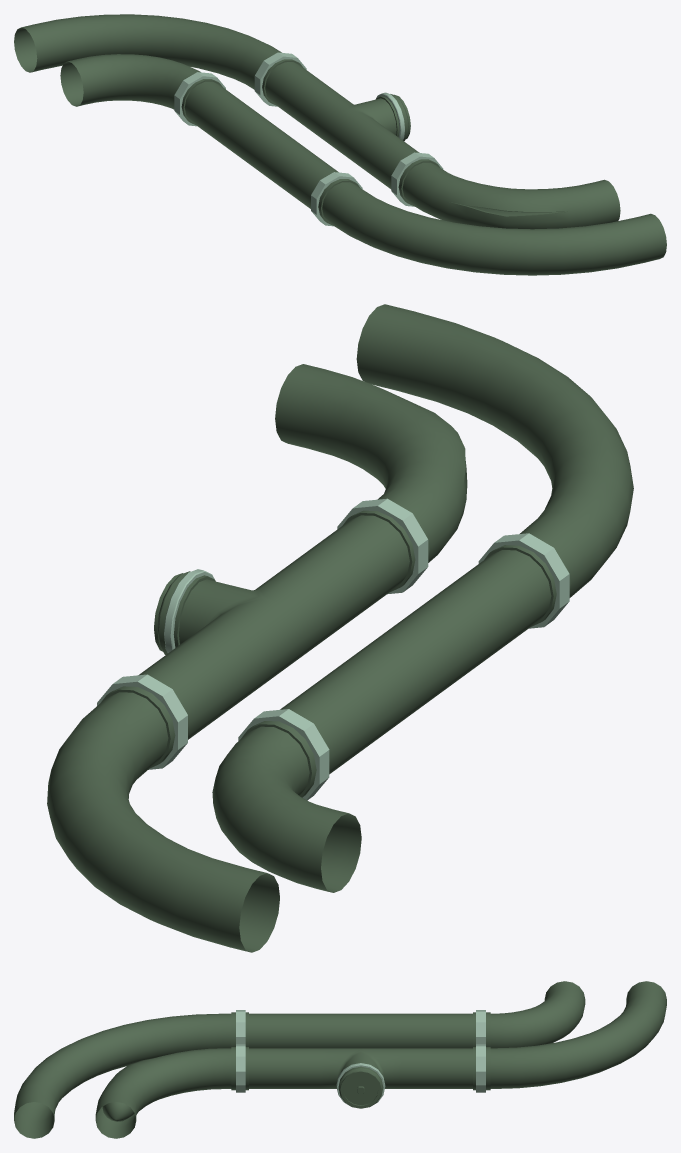
The model's file is PipeComplexLarge_A1_20.fbx.
3 views of the same model, one above another, from view 1: azimuth 30°, elevation 25°; view 2: azimuth 150°, elevation 25°; view 3: azimuth 270°, elevation 25° (orthographic). The views are drawn at different scales.
Visible parts, largest first — view 1: PipeComplexLarge_A1_20.001; view 2: PipeComplexLarge_A1_20.001; view 3: PipeComplexLarge_A1_20.001.
Part boxes in pixels (bbox=[...]): PipeComplexLarge_A1_20.001: bbox=[14, 14, 666, 275]; PipeComplexLarge_A1_20.001: bbox=[47, 304, 633, 952]; PipeComplexLarge_A1_20.001: bbox=[14, 981, 666, 1138].
Size of the model in its own units: 1.4 by 0.2411 by 3.2.
